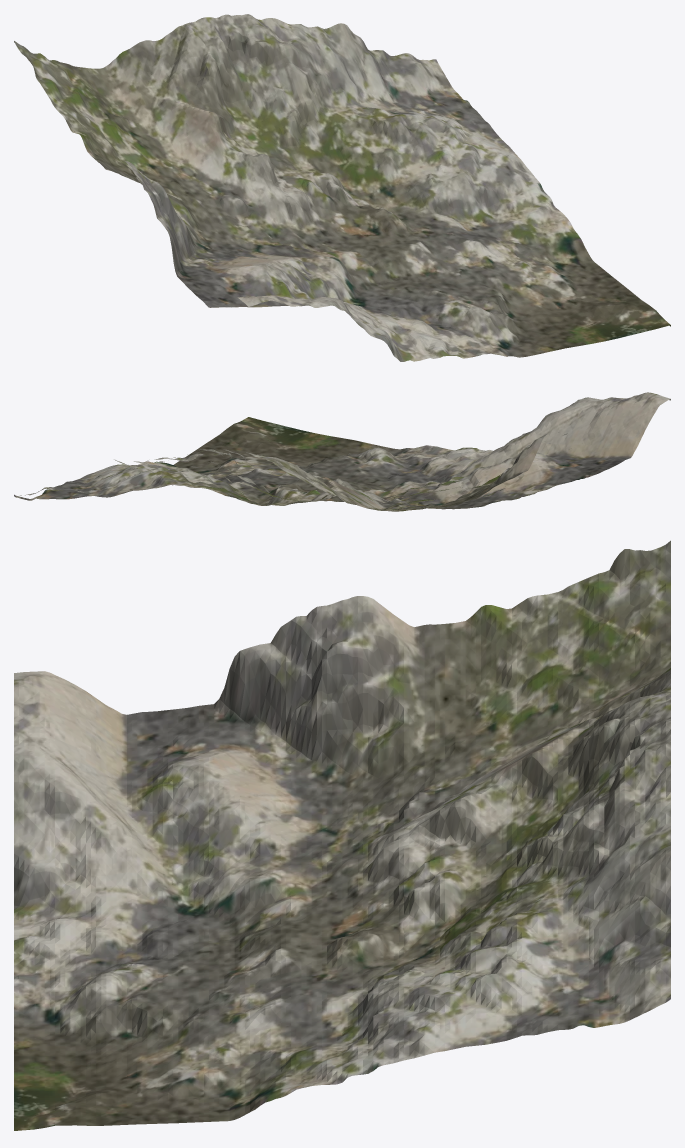
3 views of the same model, one above another, from view 1: azimuth 30°, elevation 25°; view 2: azimuth 150°, elevation 25°; view 3: azimuth 270°, elevation 25° (orthographic). The views are drawn at different scales.
Bounding box in the file's own units: 250 × 123 × 241.
1 material, 1 textured.
